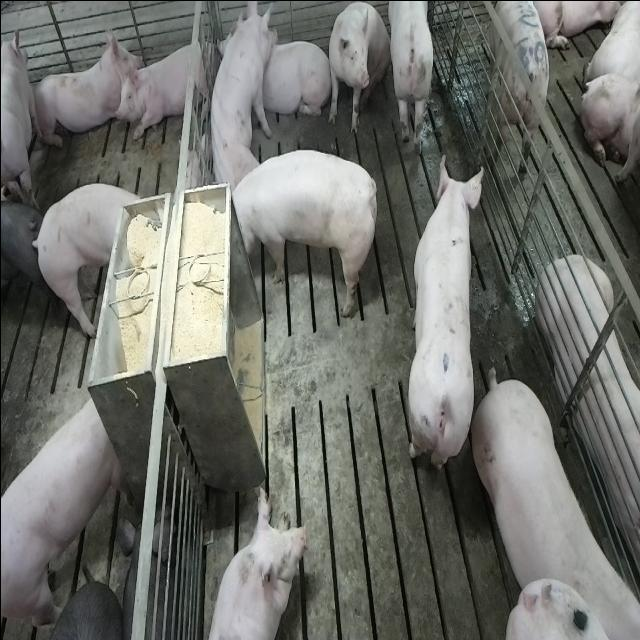Feeding: (230, 144, 381, 326)
Sitting: (204, 0, 274, 185), (326, 0, 390, 134)
Standing: (2, 392, 124, 630), (406, 154, 482, 478), (32, 178, 134, 334), (482, 2, 552, 176), (386, 2, 436, 154), (0, 22, 34, 204), (0, 190, 44, 314)
Sternal_lying: (538, 249, 640, 581), (202, 481, 306, 640), (30, 19, 138, 147), (118, 30, 215, 142), (257, 34, 329, 121)
